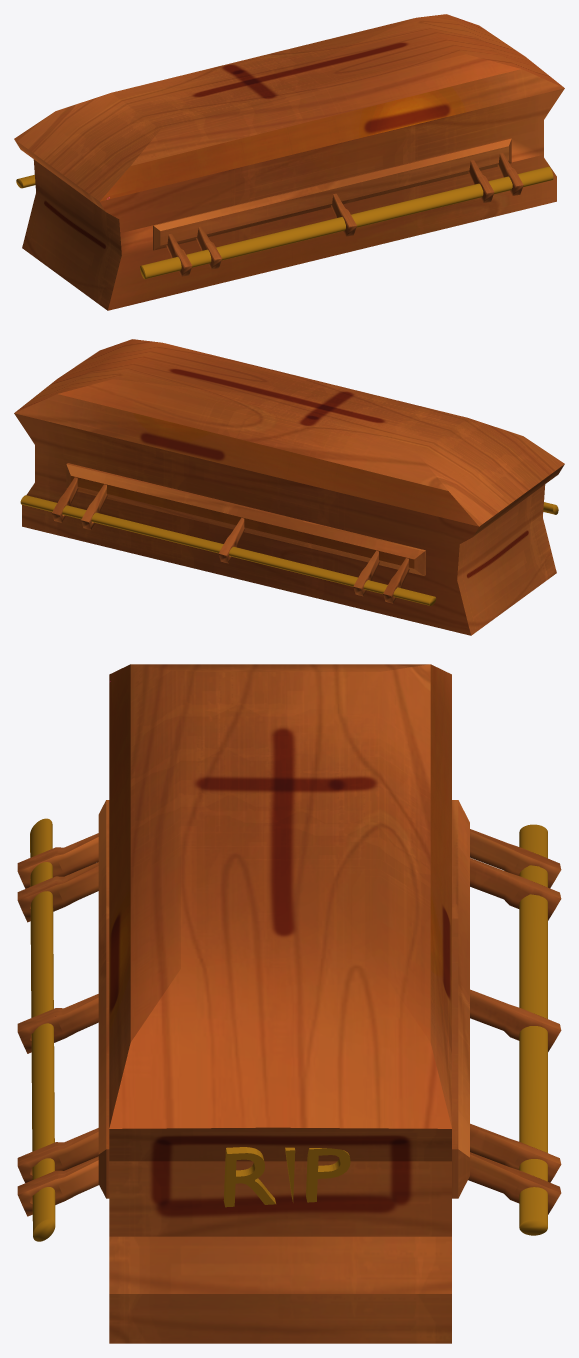
The model's file is casket.fbx.
3 views of the same model, one above another, from view 1: azimuth 30°, elevation 25°; view 2: azimuth 150°, elevation 25°; view 3: azimuth 270°, elevation 25° (orthographic). The views are drawn at different scales.
Parts seen in each view (by area): view 1: Cube; view 2: Cube; view 3: Cube, Text.
Part boxes in pixels (x1,y1,x2,y2): Cube: (14,14,564,310); Cube: (14,339,564,635); Cube: (17,664,561,1343); Text: (223,1147,350,1207).
Bounding box in the file's own units: 425 × 132 × 215.
